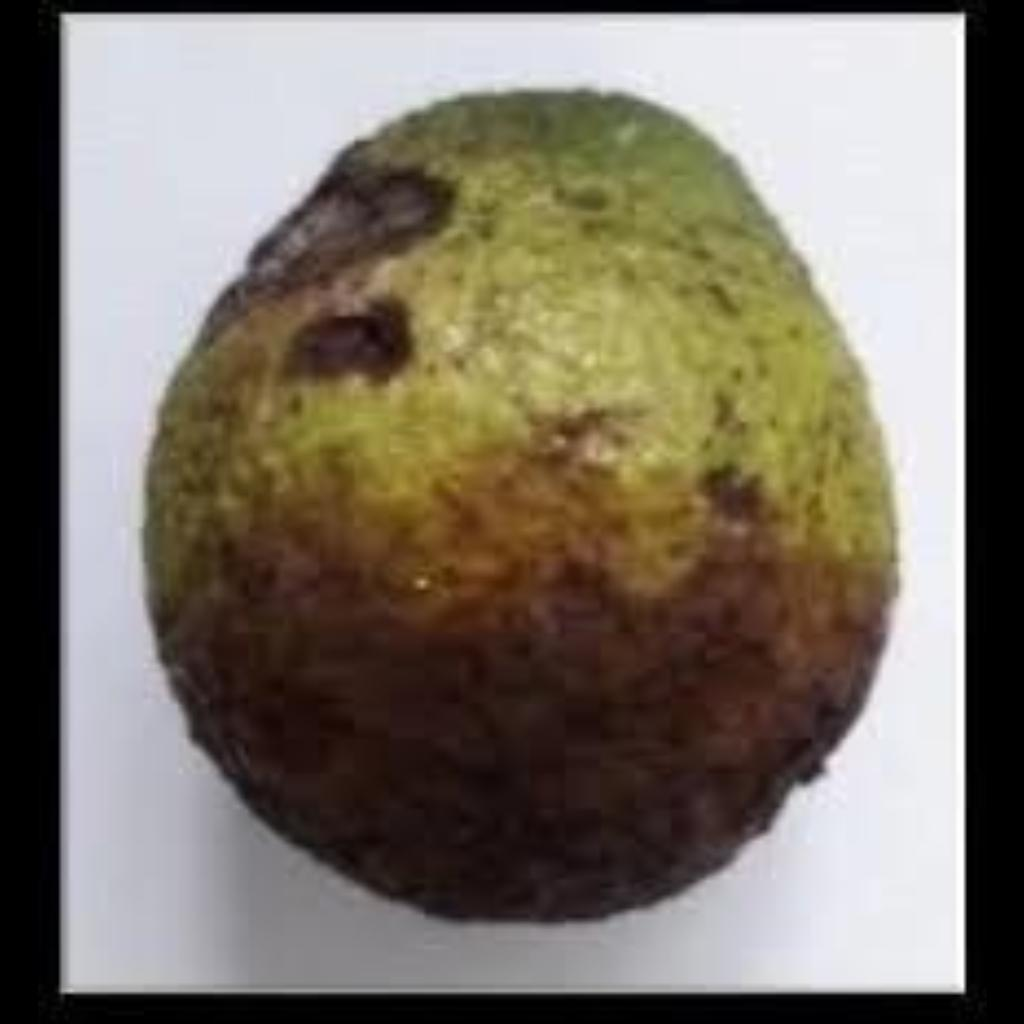antracnosis_fruto: (164, 119, 885, 862)
